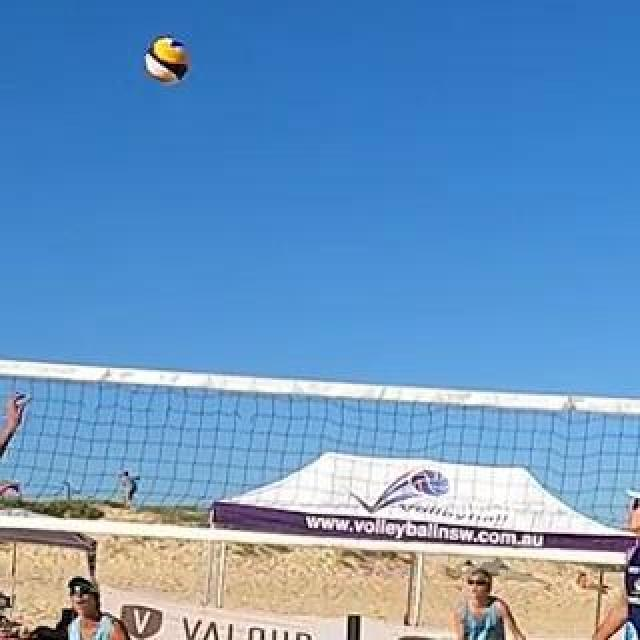volleyball: (147, 38, 191, 82)
